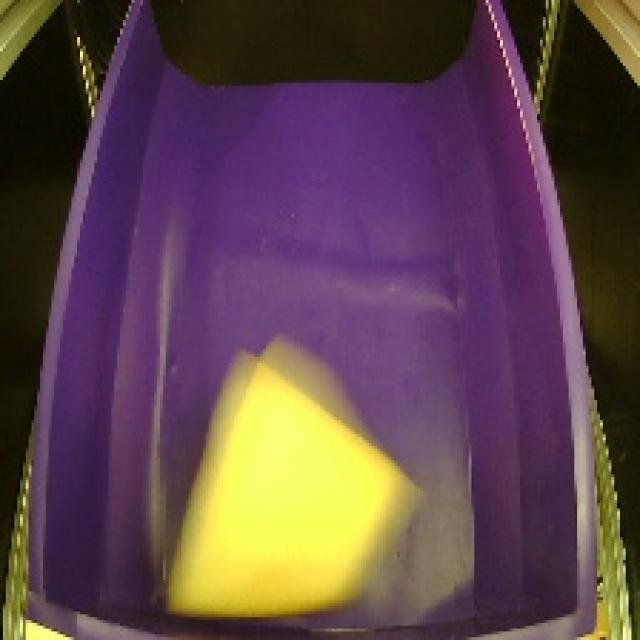potato: (148, 326, 428, 627)
